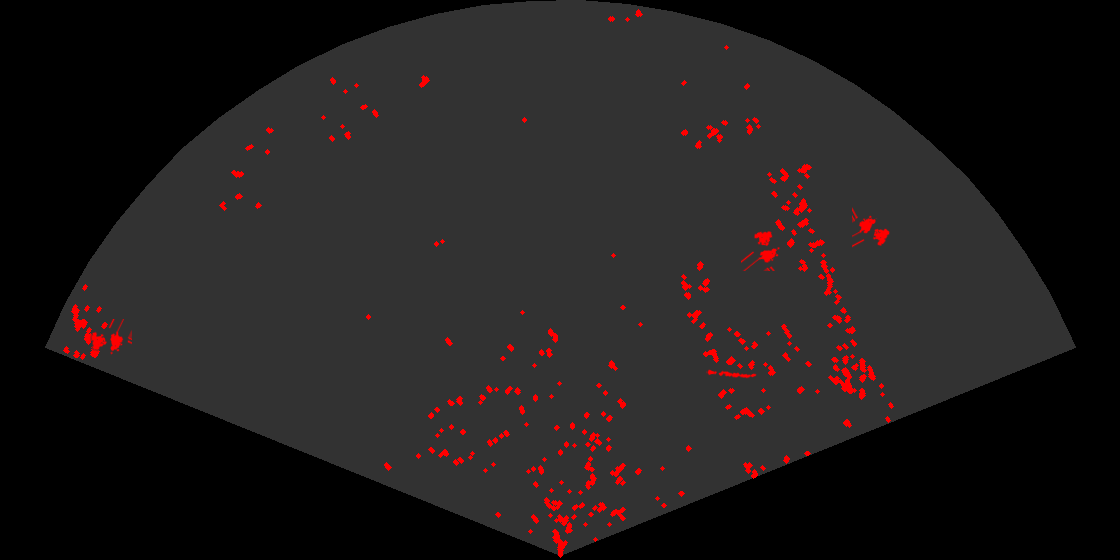cage: (741, 229, 781, 271), (852, 206, 891, 249), (90, 319, 132, 356)
chain: (706, 368, 757, 380)
